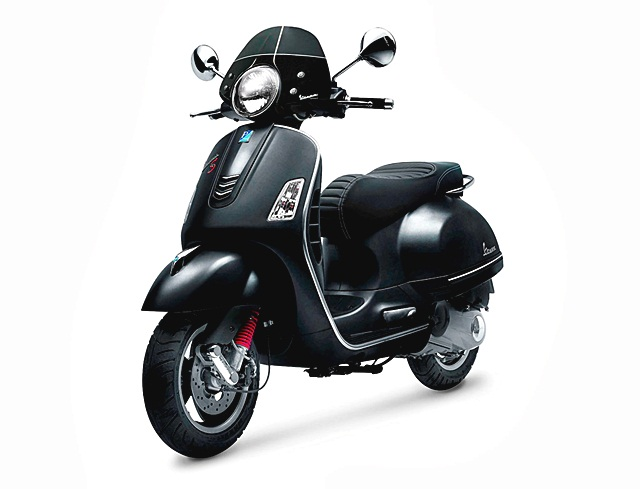motorcycle: (141, 24, 502, 458)
